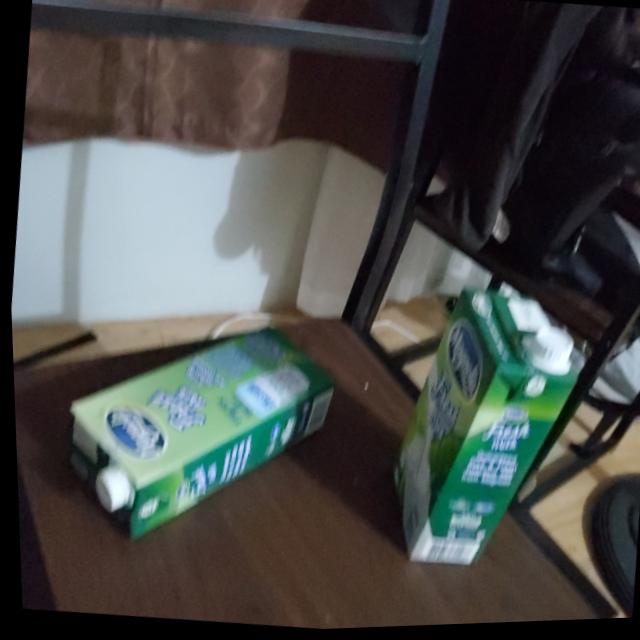milk: (46, 305, 340, 562), (363, 275, 591, 583)
